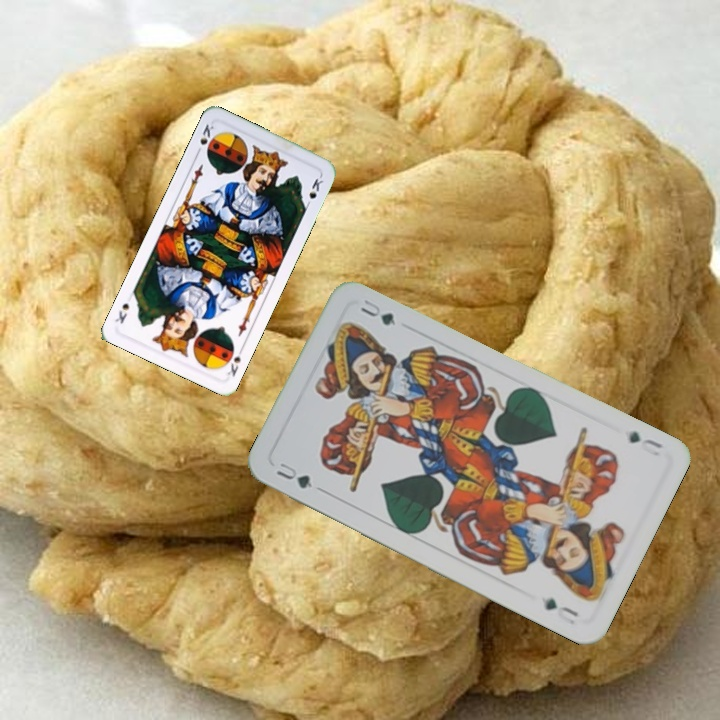GU: (272, 458, 315, 492), (624, 427, 665, 459)
SK: (192, 120, 217, 158), (223, 342, 245, 379)
